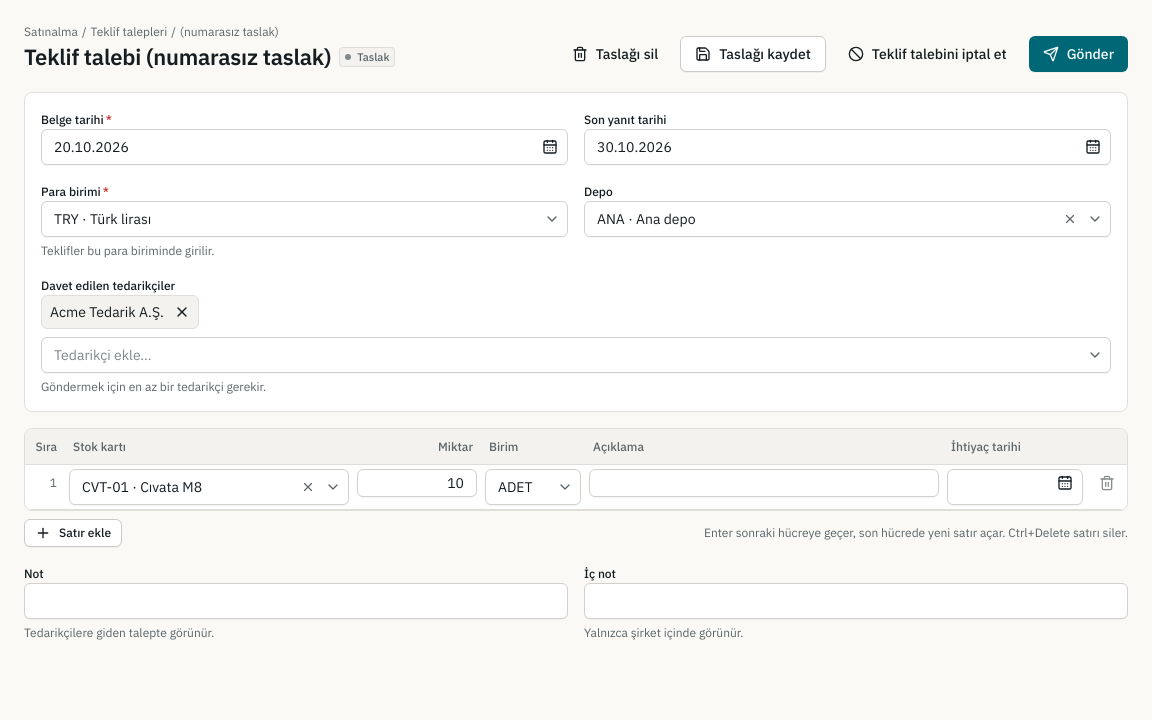
Test: requests for quotation › invites a supplier on the draft and sends it
Expected: the table named "Satırlar" is shown, [25,429,1127,510]
Type "Beta" into the dropdown labelled "Davet edilen tedarikçiler" at (576, 355), box [41,337,1111,373]
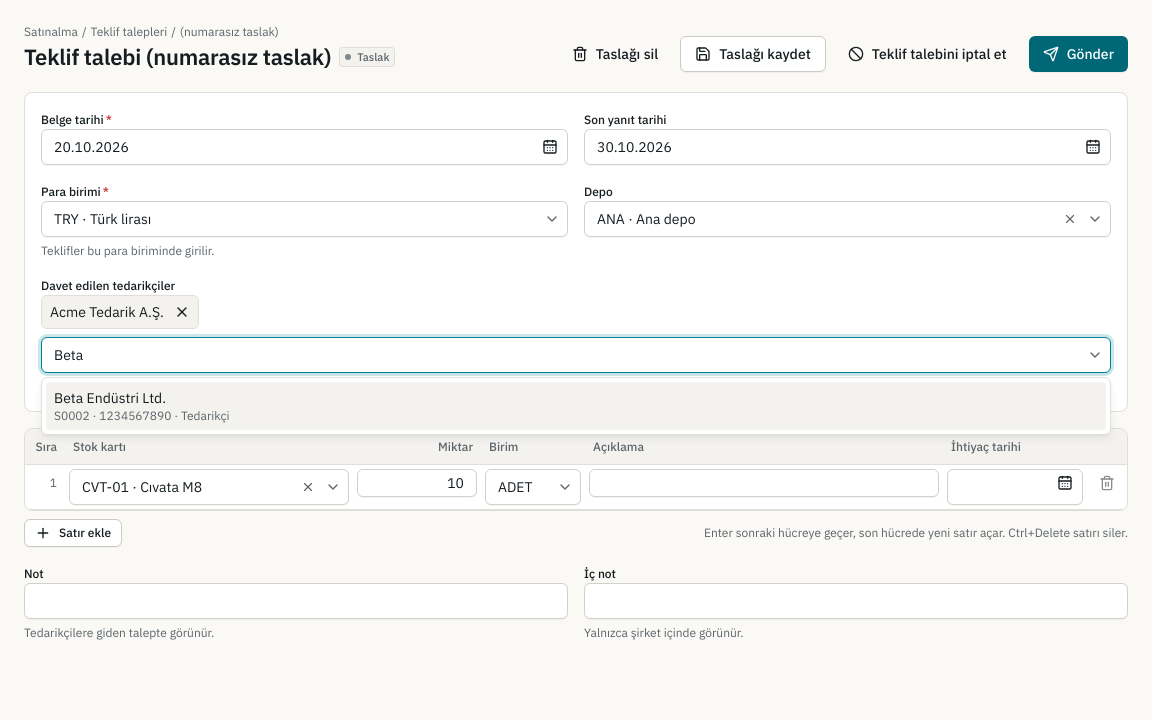
Click the option "Beta Endüstri Ltd. S0002 · 1234567890 · Tedarikçi" at (110, 398), box [46,382,1106,430]
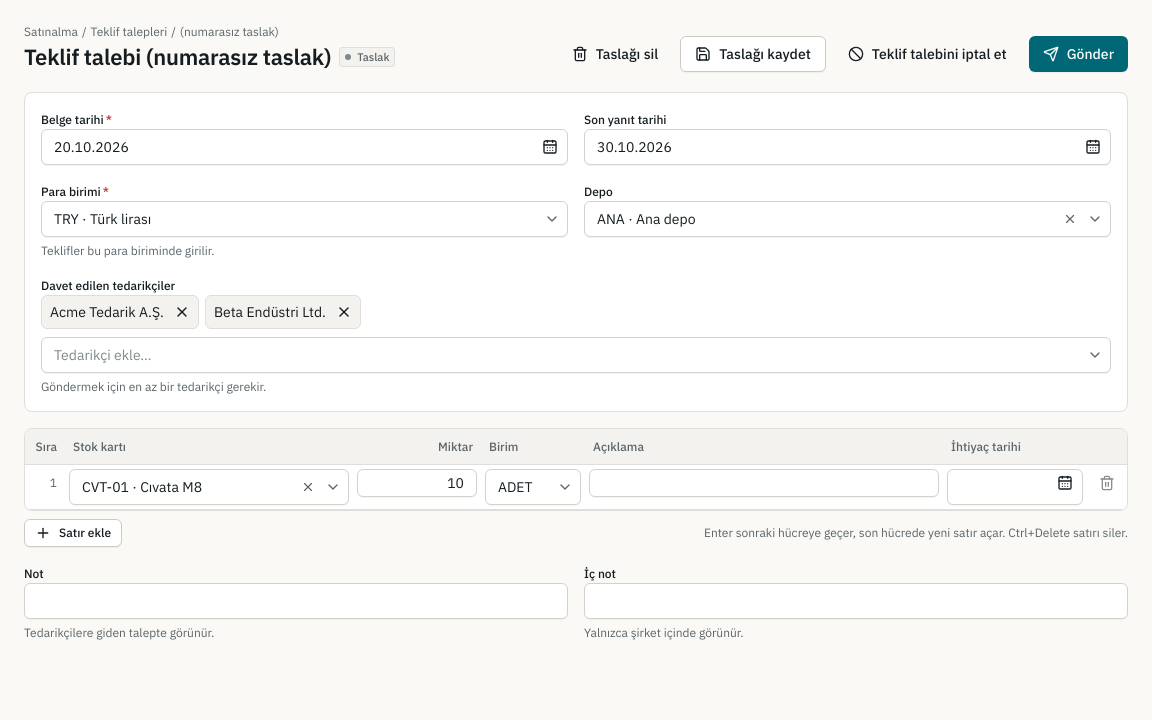
Click the button "Gönder" at (1078, 54), box [1029,36,1128,72]
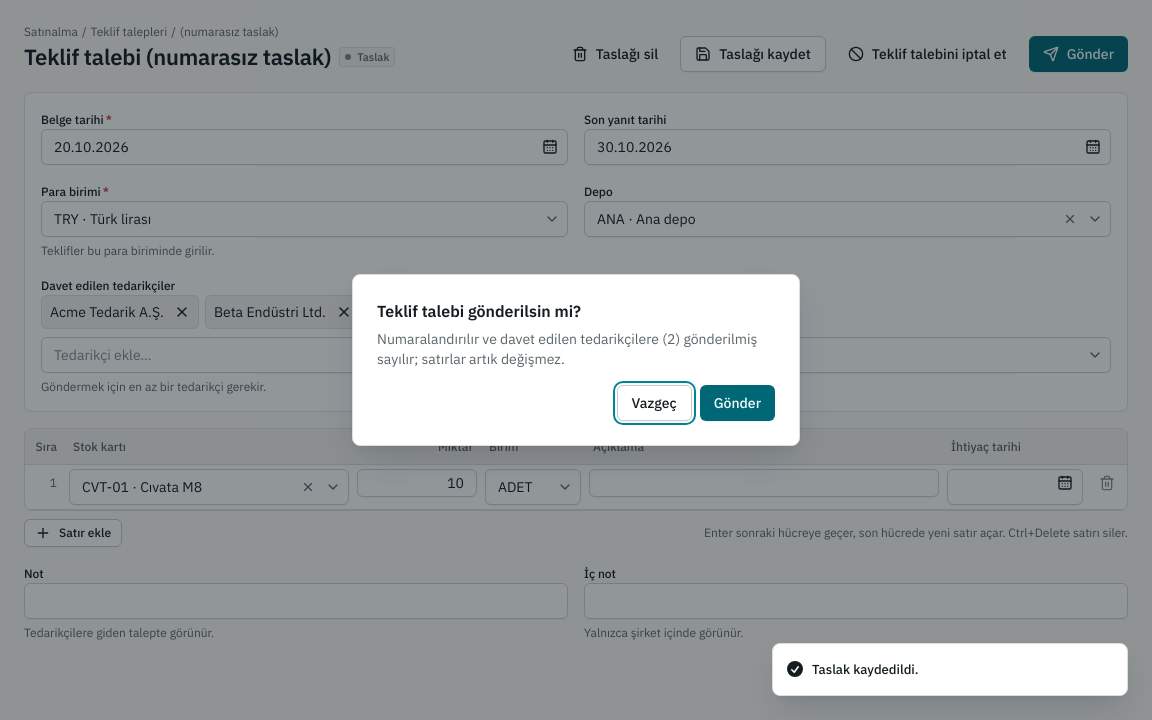
Expected: the text "(2)" is shown, [377,330,757,368]
Click the button "Gönder" at (737, 403), box [700,385,775,421]
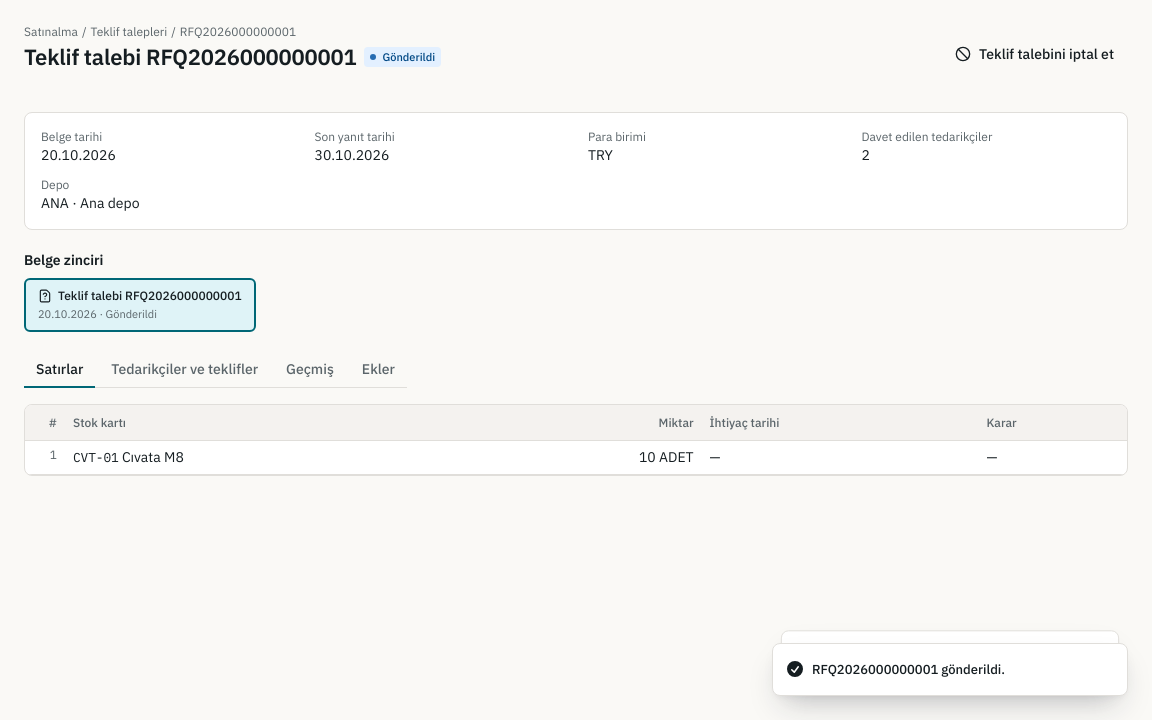
Expected: the heading "Teklif talebi RFQ2026000000001" is shown, [24,42,356,72]
